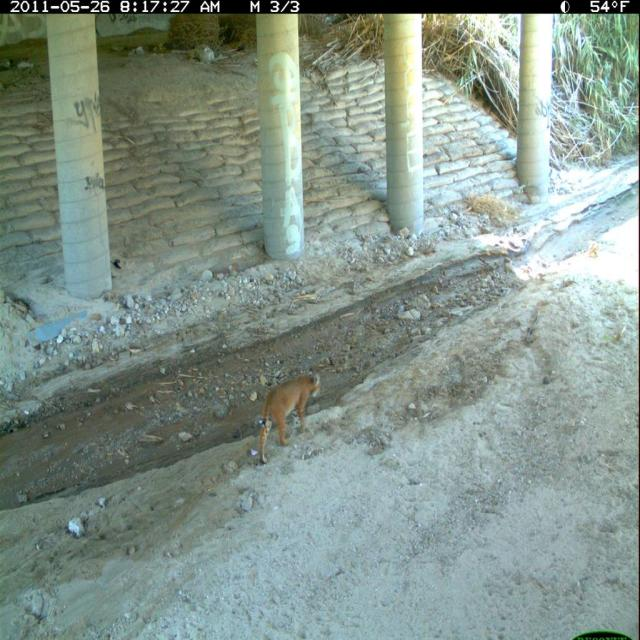bobcat: (255, 364, 327, 467)
